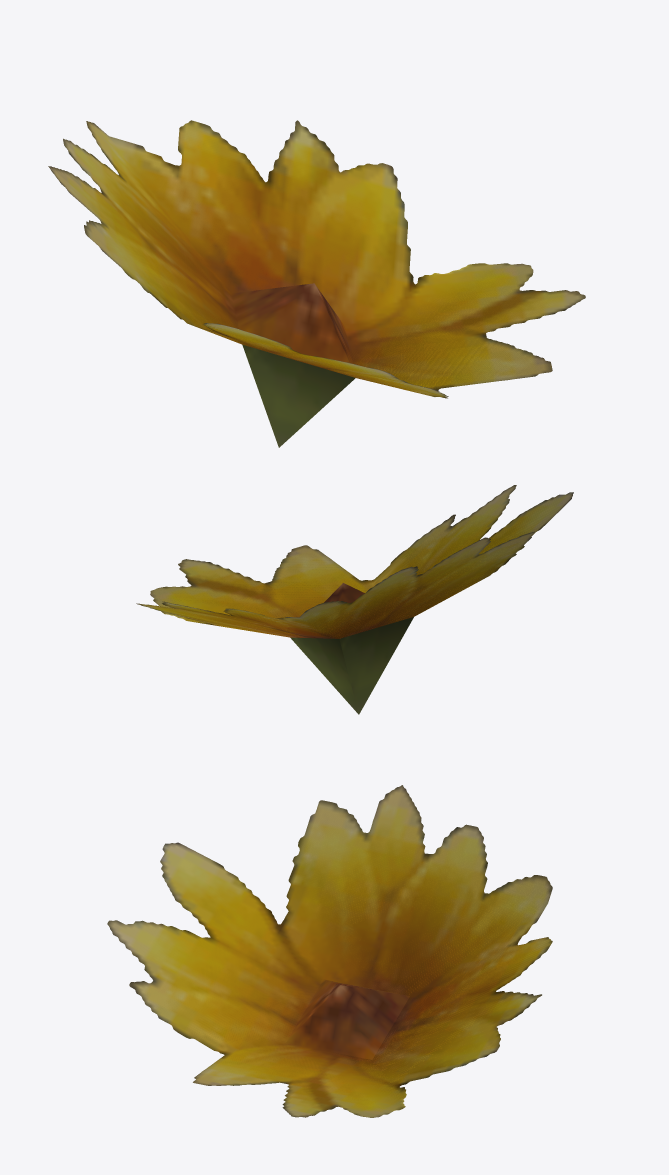
Rendered from grizzlyhills_yellowflower02.obj.
The picture shows the model from 3 angles, top to bottom: view 1: azimuth 30°, elevation 25°; view 2: azimuth 150°, elevation 25°; view 3: azimuth 270°, elevation 25°; orthographic projection. The views are drawn at different scales.
Parts seen in each view (by area): view 1: grizzlyhills_yellowflower02; view 2: grizzlyhills_yellowflower02; view 3: grizzlyhills_yellowflower02.
Part boxes in pixels (<box>): grizzlyhills_yellowflower02: <box>48,120,585,447</box>; grizzlyhills_yellowflower02: <box>136,485,573,714</box>; grizzlyhills_yellowflower02: <box>107,785,552,1117</box>.
Bounding box in the file's own units: 0.9906 × 0.425 × 1.01.
Materials: 1 (1 with a texture image).
